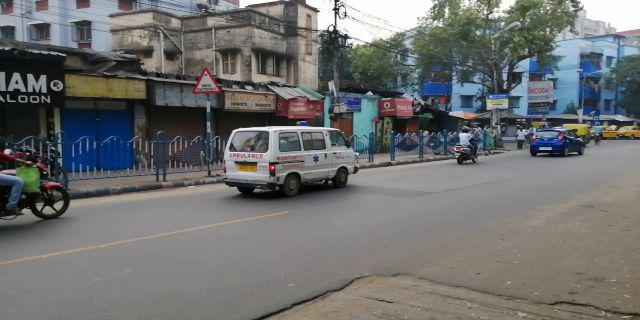Car: (532, 125, 583, 158)
Motorbike: (1, 147, 71, 223), (452, 125, 481, 162)
Van: (226, 130, 362, 191)
